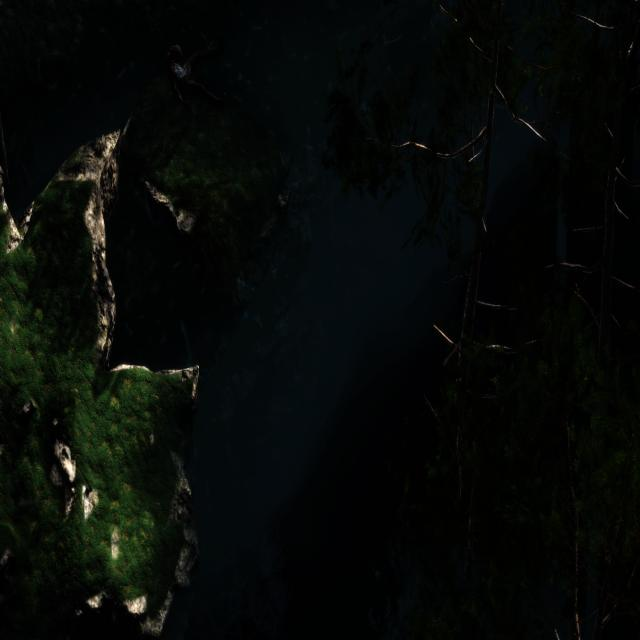Human: (164, 30, 230, 120)
